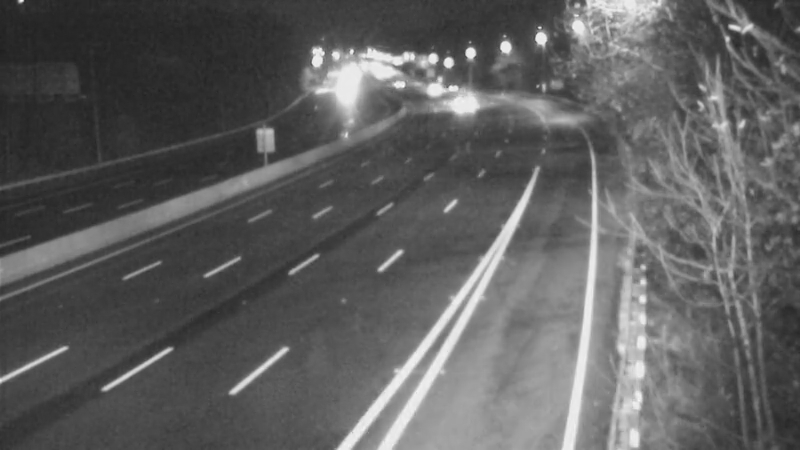vehicle: (376, 60, 426, 110), (426, 63, 476, 113), (408, 65, 458, 115), (436, 82, 486, 132)
